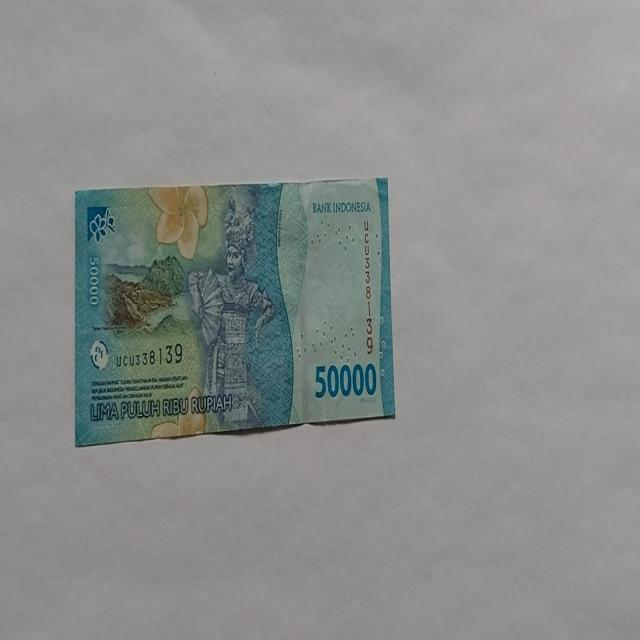lima puluh ribu rupiah: (73, 176, 396, 446)
